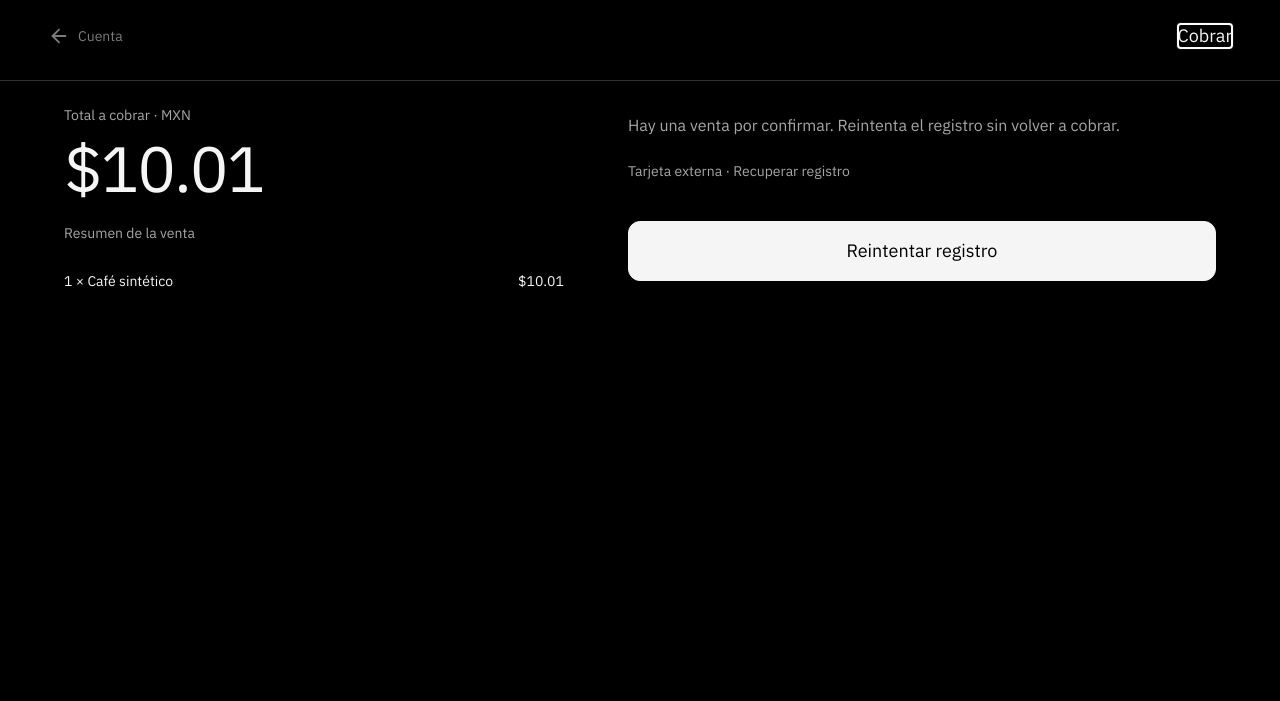
it: an uncertain historical card operation retries its exact payload and UUID without creating a Point payment
What coordinates should you click on to do the following:
click the button "Reintentar registro"
I would click on:
 (922, 251)
Its box is [628,221,1216,281].
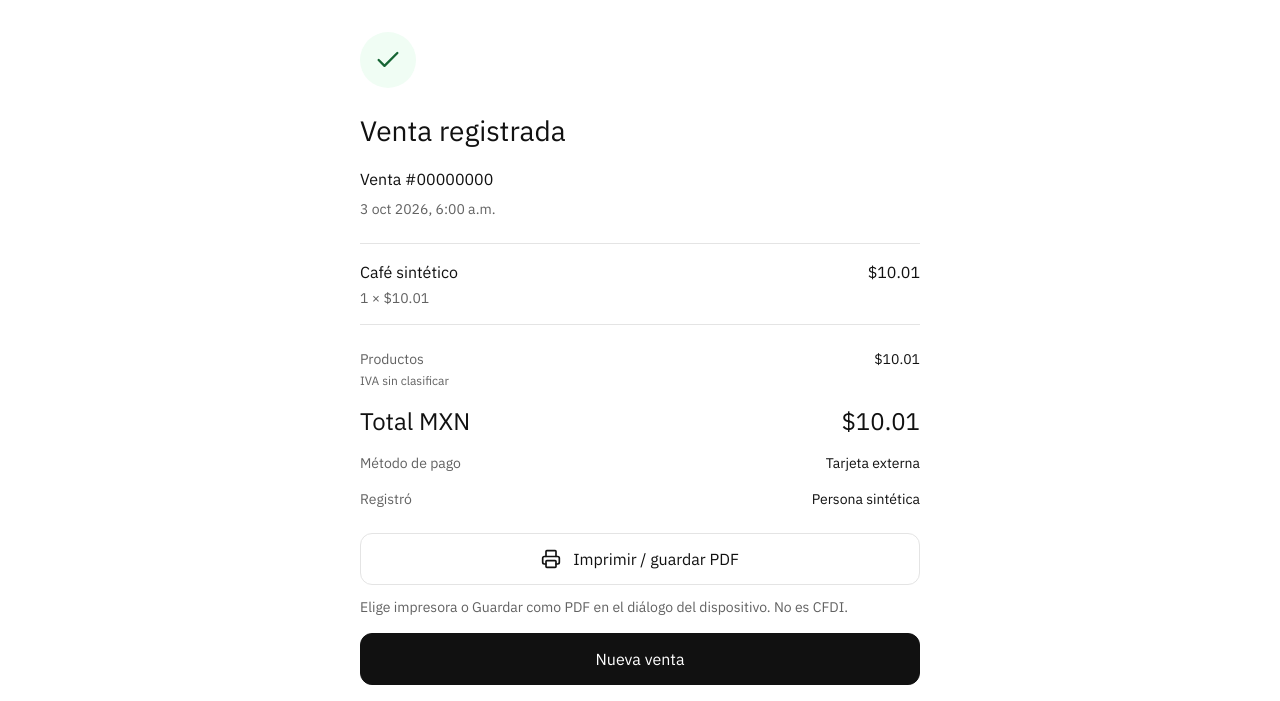
Expected: the heading "Venta registrada" is shown, [360,112,566,149]
